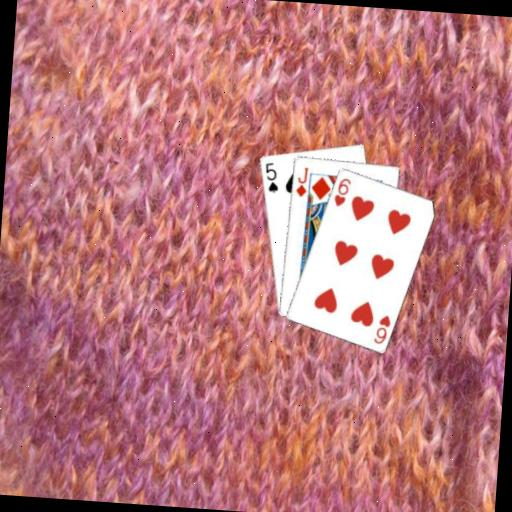5S: (260, 159, 281, 194)
6H: (330, 174, 353, 209), (371, 311, 393, 346)
JD: (293, 163, 311, 199)
